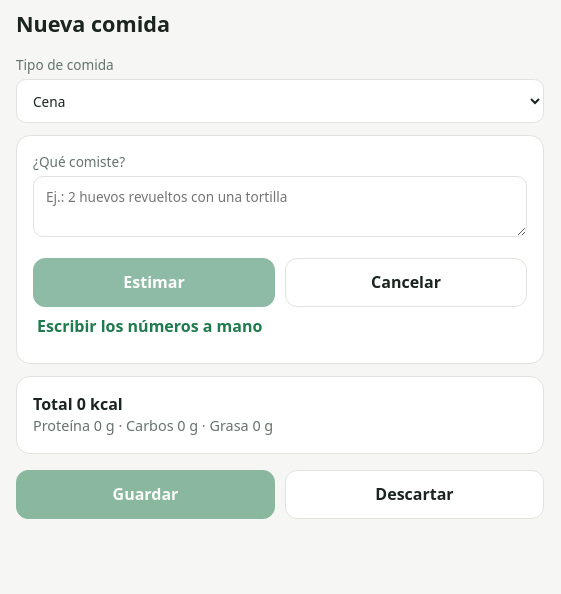
Test: si la estimación por texto falla se pueden escribir los números
In the text box labelled "¿Qué comiste?": (280, 206) [33,176,527,237], type "pan"
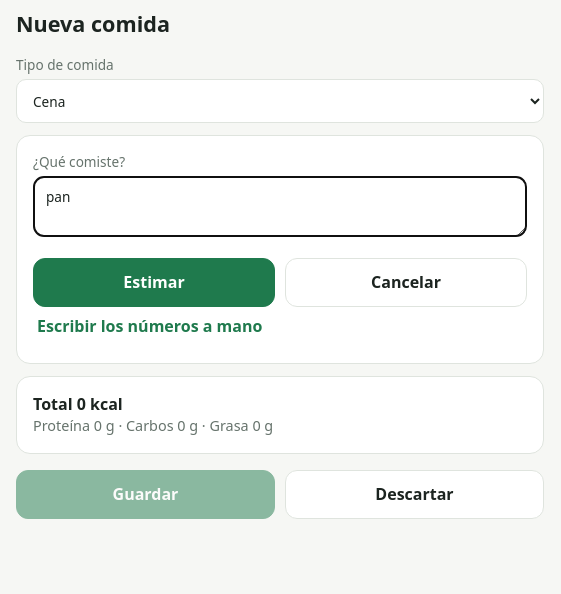
Click the button "Estimar": (154, 282) [33,258,275,307]
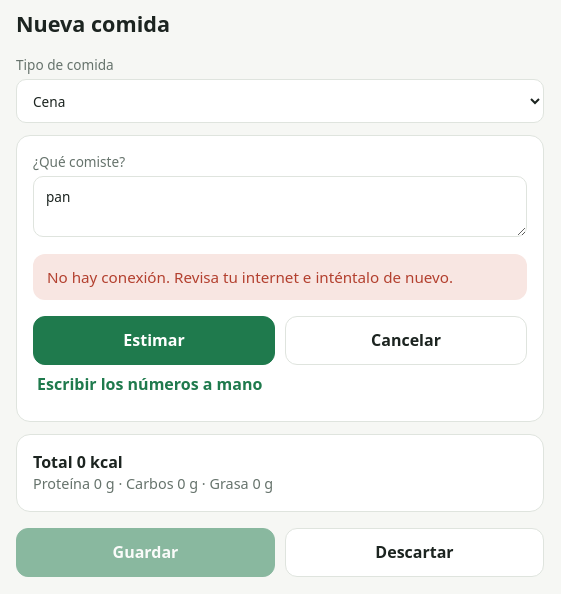
Result: the text "No hay conexión. Revisa tu internet e inténtalo de nuevo." is shown at [33,254,527,300]
Click the button "Escribir los números a mano": (150, 385) [33,365,266,405]
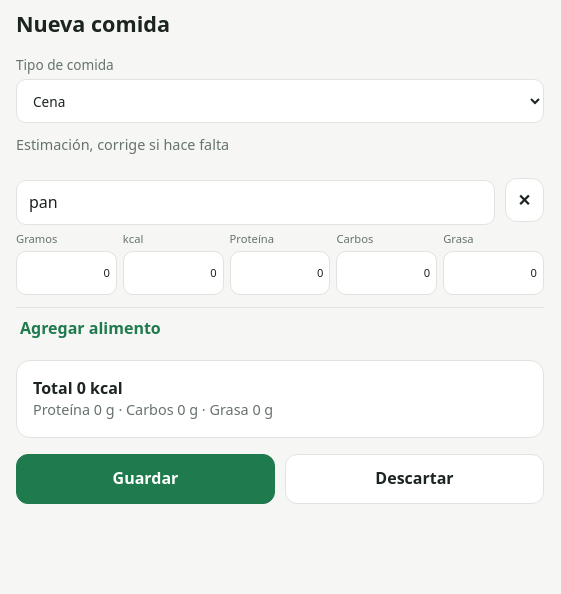
Result: the field showing "pan" is shown at [16,180,495,225]
Result: the field labelled "kcal" holds "0" at [123,251,224,295]
